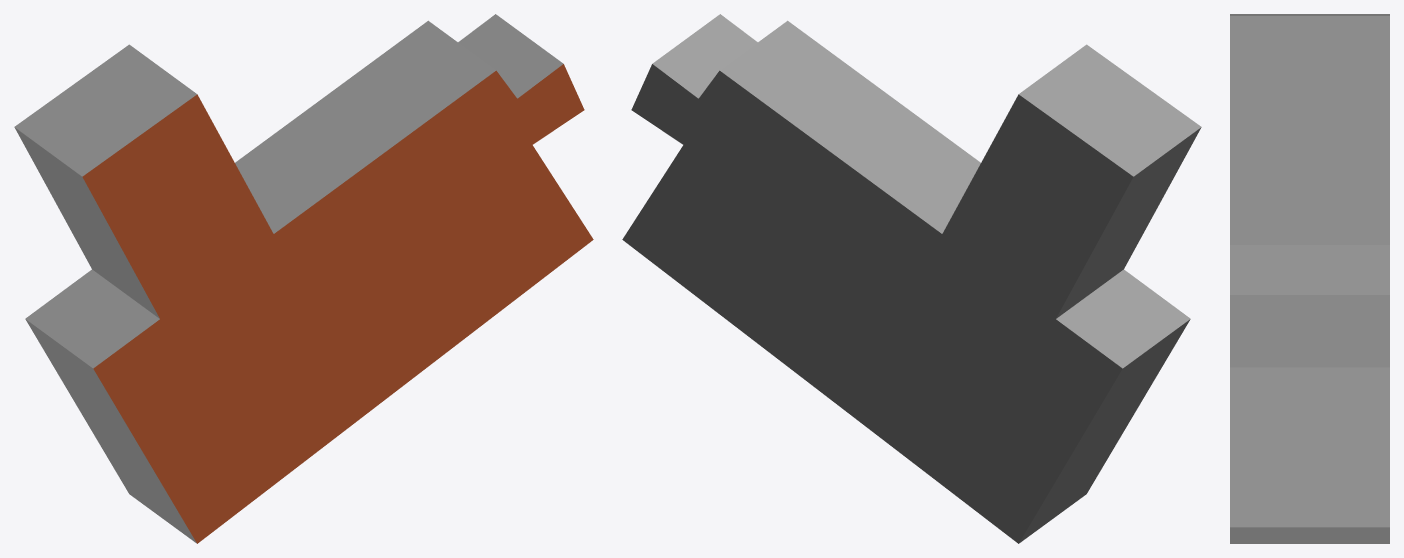
Rendered from construction_2148_assumed_A_Casa_h6m.obj.
The picture shows the model from 3 angles, left to right: view 1: azimuth 30°, elevation 25°; view 2: azimuth 150°, elevation 25°; view 3: azimuth 270°, elevation 25°; orthographic projection. The views are drawn at different scales.
Visible parts, largest first — view 1: construction_2148_assumed_A_Casa; view 2: construction_2148_assumed_A_Casa; view 3: construction_2148_assumed_A_Casa.
Part boxes in pixels (x1,y1,x2,y2): construction_2148_assumed_A_Casa: [14, 14, 593, 543]; construction_2148_assumed_A_Casa: [622, 14, 1201, 543]; construction_2148_assumed_A_Casa: [1230, 14, 1389, 543].
Size of the model in its own units: 26.02 by 21.87 by 6.
